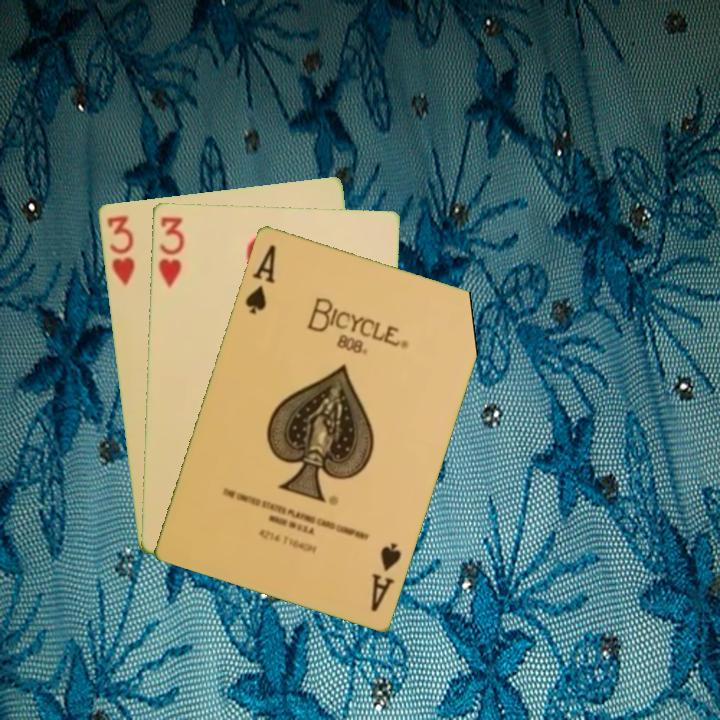3h: (102, 212, 137, 288), (154, 212, 187, 289)
As: (241, 240, 279, 317), (367, 538, 404, 614)
